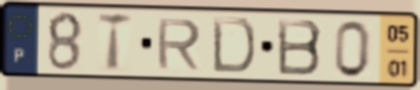0: (332, 18, 374, 81)
8: (46, 10, 86, 72)
B: (275, 16, 325, 78)
D: (209, 14, 258, 76)
R: (154, 17, 204, 72)
T: (95, 11, 135, 74)
